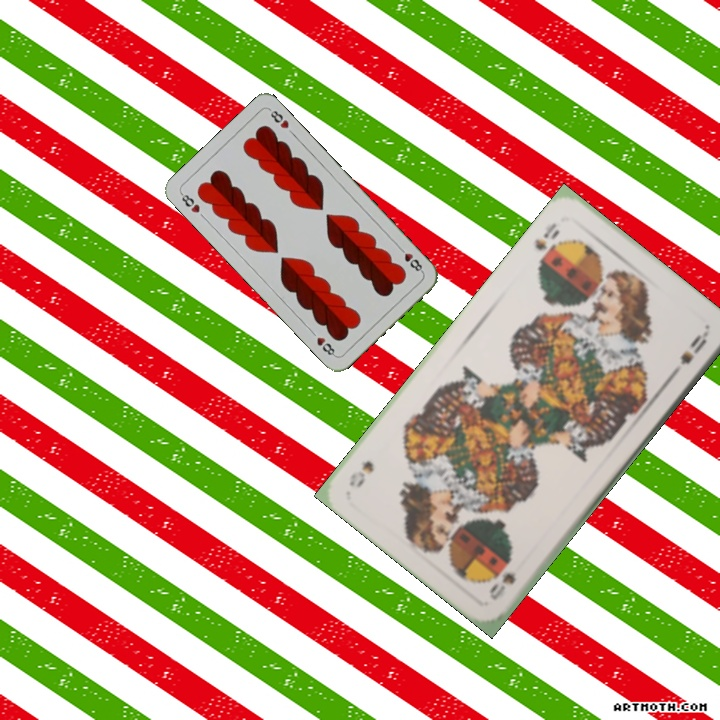H8: (394, 242, 426, 275), (176, 189, 203, 215)
SO: (484, 567, 519, 603), (530, 218, 563, 254)
